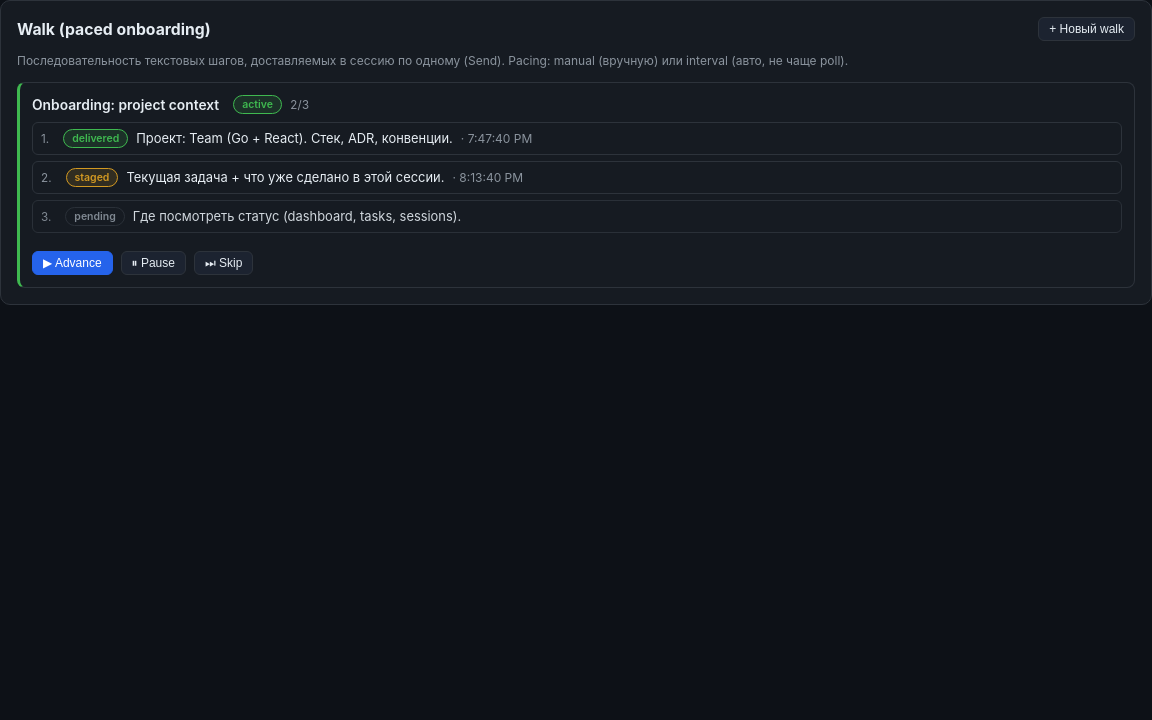
Test: P3.14: walk (paced onboarding) › create: форма + редактор шагов → новый walk появляется
Expected: the element with test id "walk-item" is shown, [17, 82, 1135, 288]
Click the button "+ Новый walk" at point(1087, 29), box [1038, 17, 1135, 41]
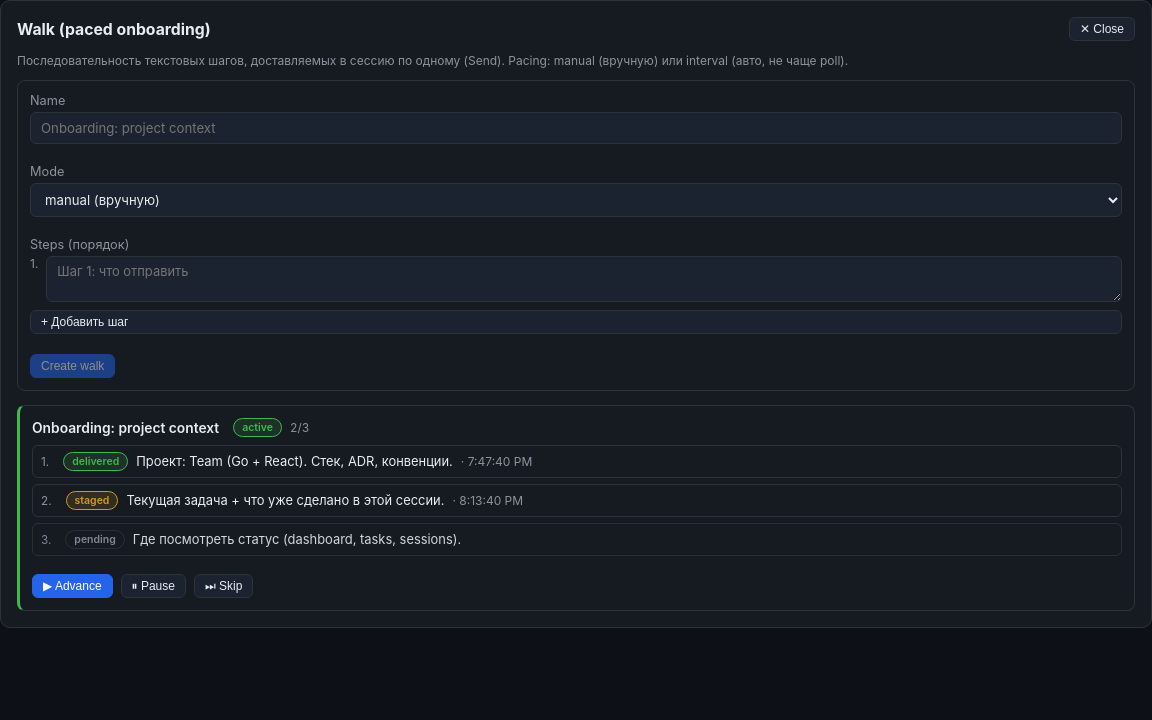
Type "My walk" into the field named "Walk name" at point(576, 128), box [30, 112, 1122, 144]
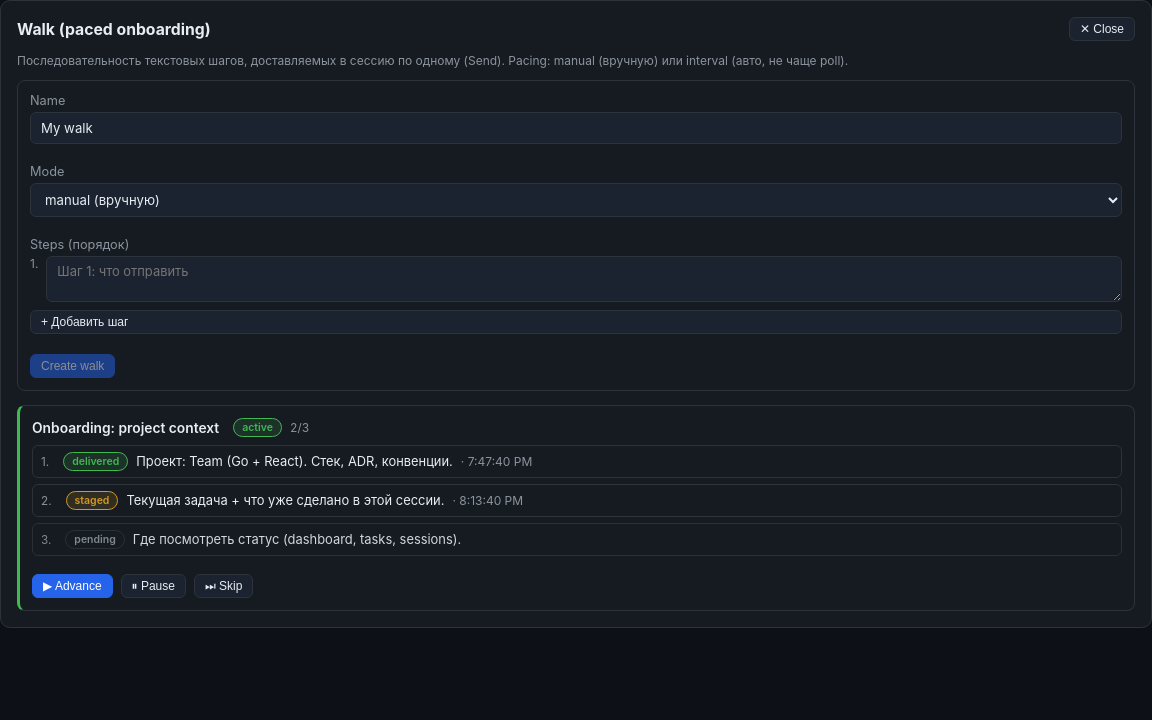
Type "step one" into the text box with placeholder "Шаг 1: что отправить" at point(584, 279), box [46, 256, 1122, 302]
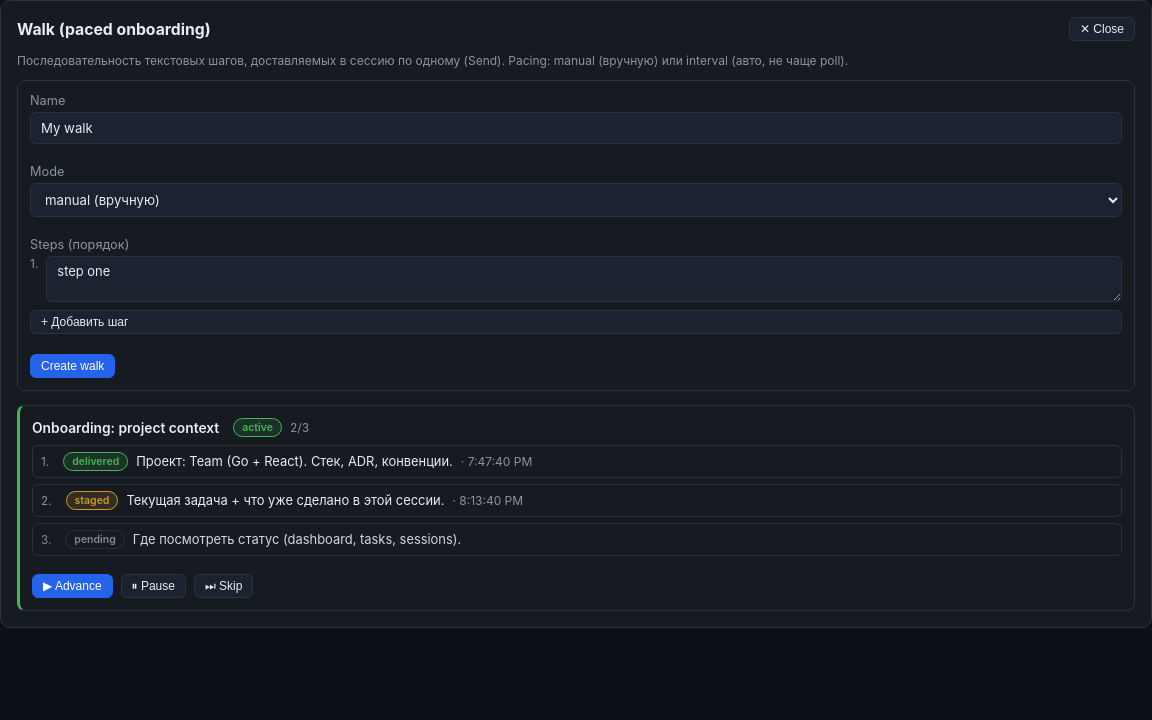
Note: добавим второй шаг
Click the button "+ Добавить шаг" at point(85, 322), box [30, 310, 1122, 334]
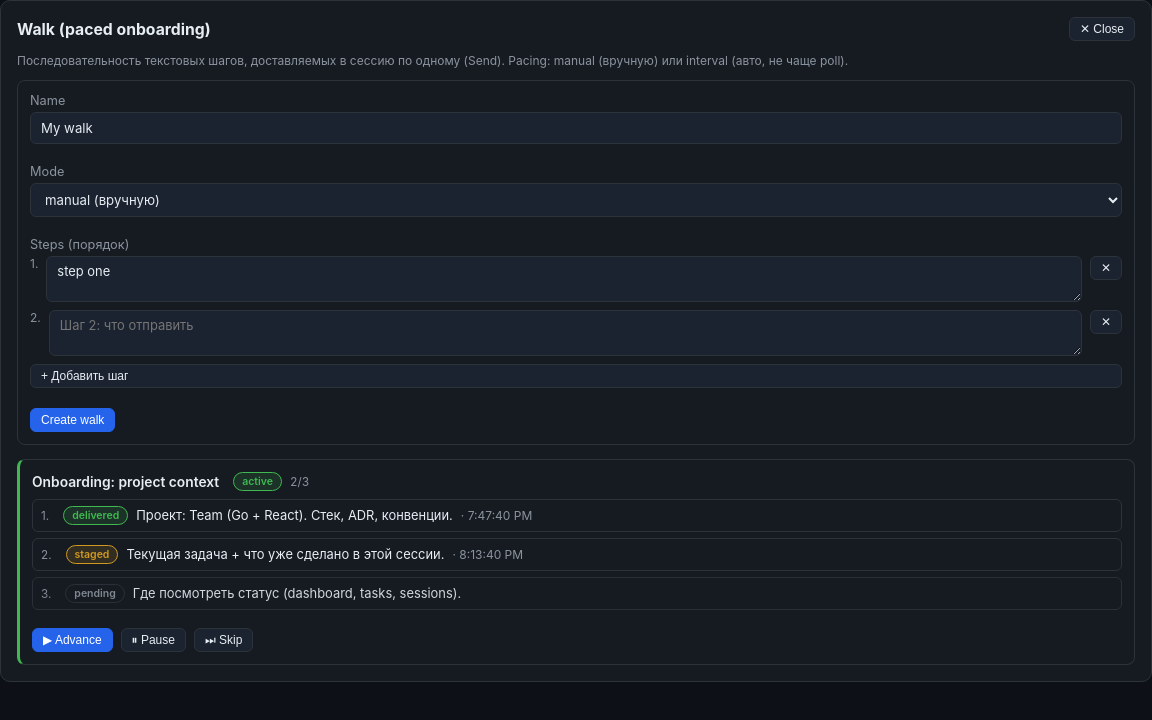
Type "step two" into the text box with placeholder "Шаг 2: что отправить" at point(565, 333), box [49, 310, 1082, 356]
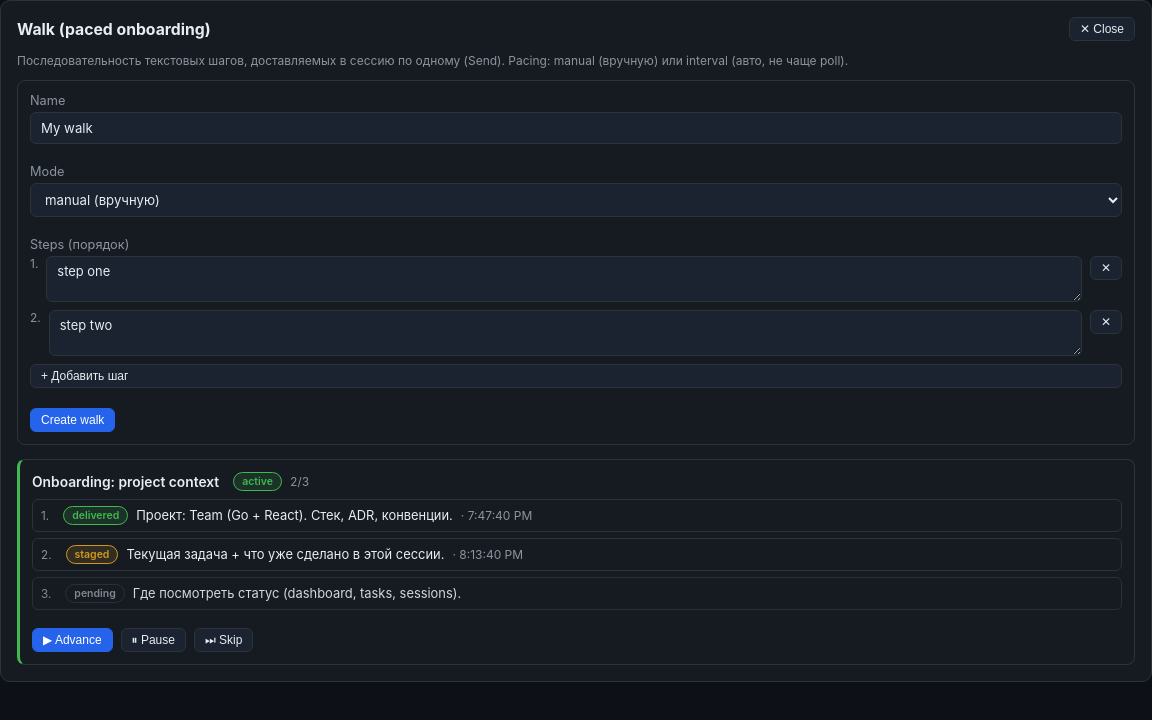
Click the button "Create walk" at point(73, 420), box [30, 408, 115, 432]
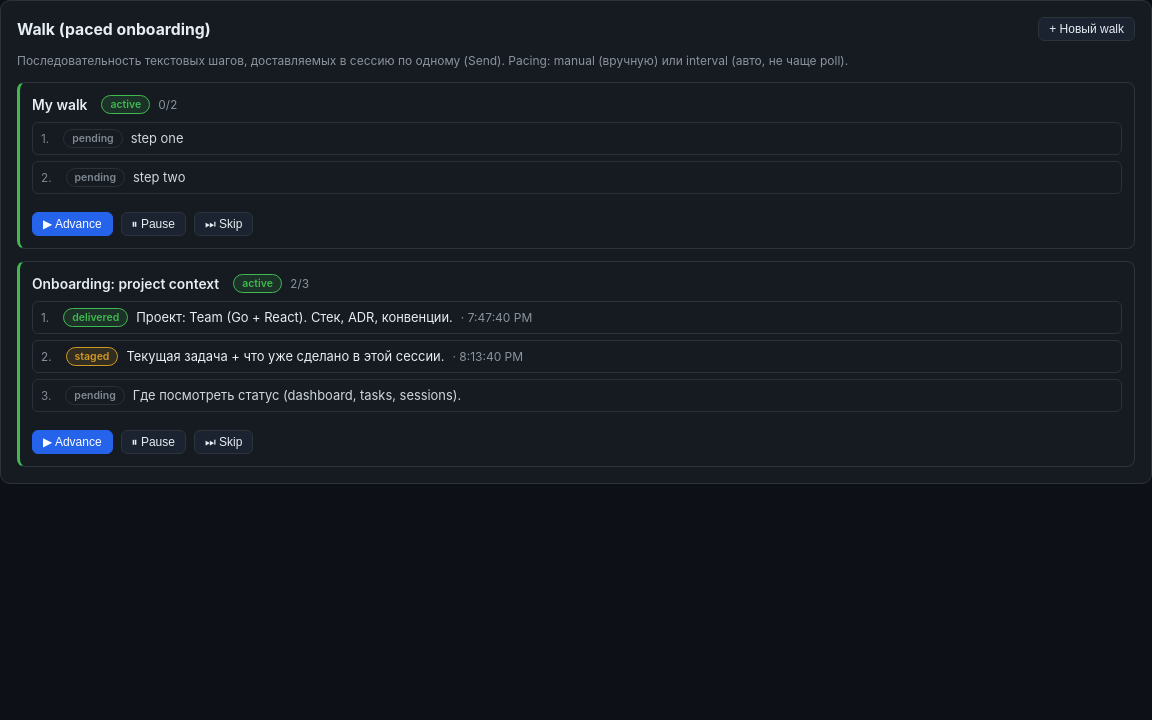
Expected: the text "My walk" is shown, [32, 96, 87, 112]
